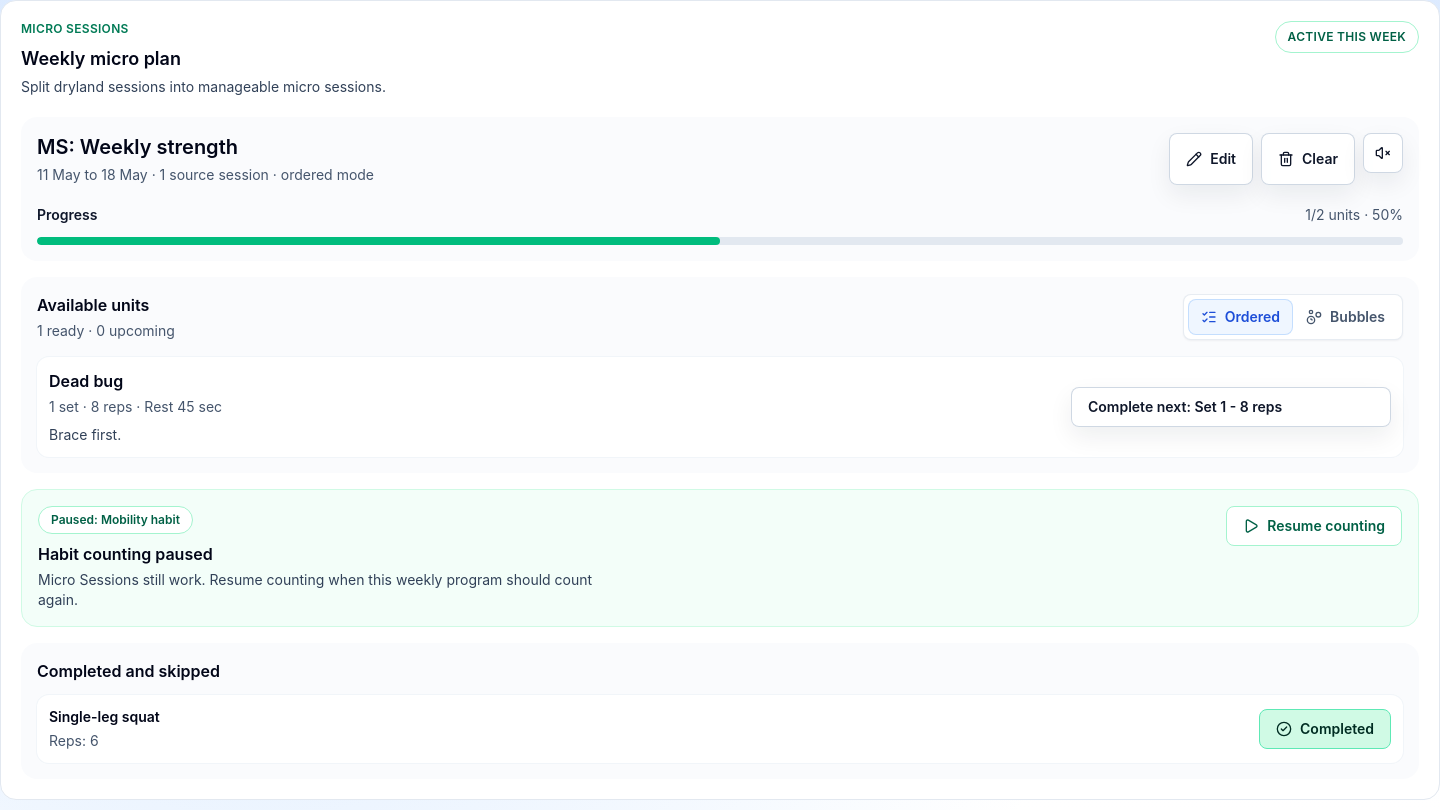
DrylandMicroPlanPanel › asks before counting a paused Habit when the final micro unit completes
Click the button with test id "dryland-micro-complete-1": (1231,407) [1071,387,1391,427]
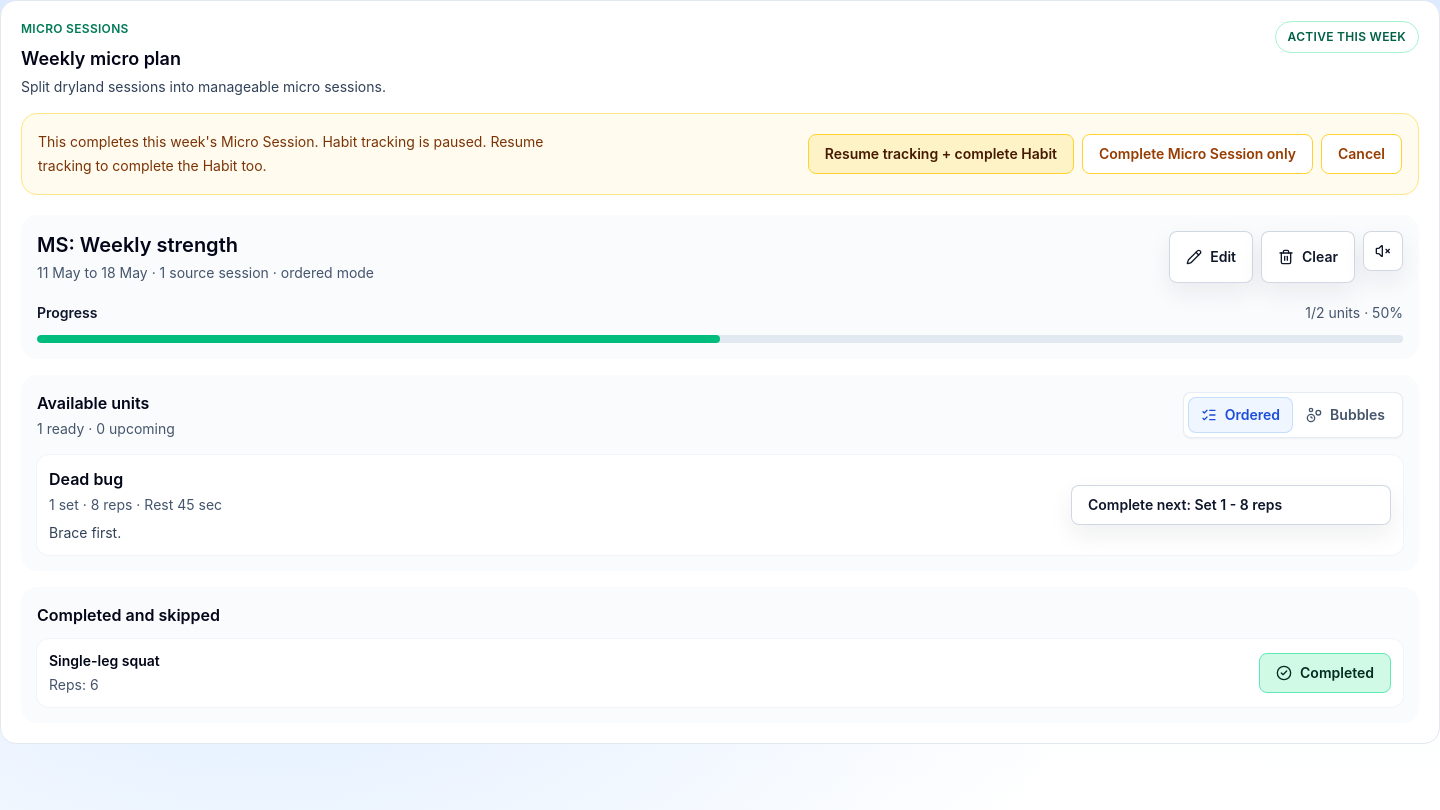
Expected: the message with test id "dryland-micro-paused-final-prompt" shows "Habit tracking is paused", [38,133,544,174]
Expected: the button "Resume tracking + complete Habit" is shown
Click the button with test id "dryland-micro-complete-paused-count": (941,154) [808,134,1074,174]
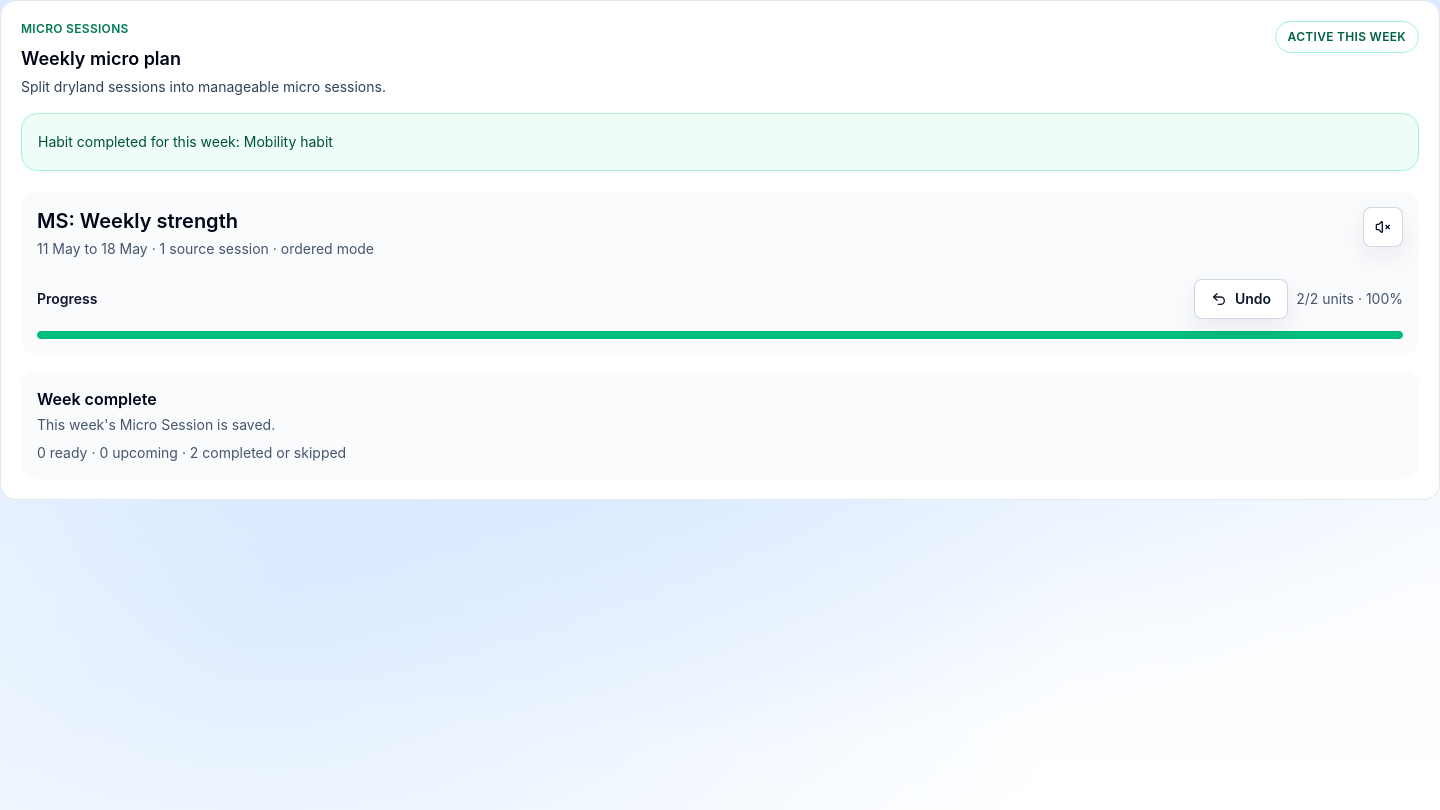
Expected: the text "Habit completed for this week: Mobility habit" is shown, [38,130,333,154]
